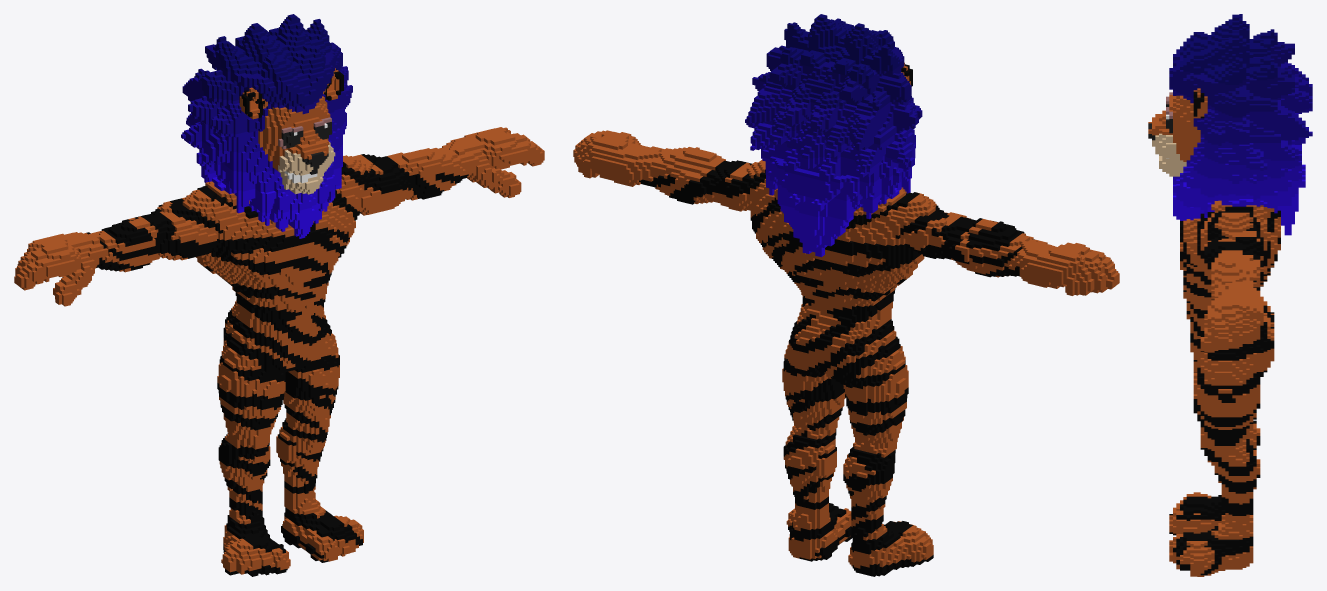
Rendered from 452-u7FBxsGX.glb.
3 views of the same model, side by side, from view 1: azimuth 30°, elevation 25°; view 2: azimuth 150°, elevation 25°; view 3: azimuth 270°, elevation 25° (orthographic). The views are drawn at different scales.
Parts seen in each view (by area): view 1: grin; view 2: grin; view 3: grin.
Part boxes in pixels (bbox=[...]): grin: bbox=[14, 14, 544, 576]; grin: bbox=[573, 14, 1119, 576]; grin: bbox=[1148, 14, 1312, 576].
Size of the model in its own units: 17.2 by 16.5 by 4.7.
4 materials, 4 textured.
